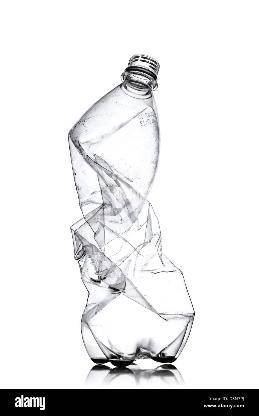Plastic Bottle: (59, 50, 201, 372)
